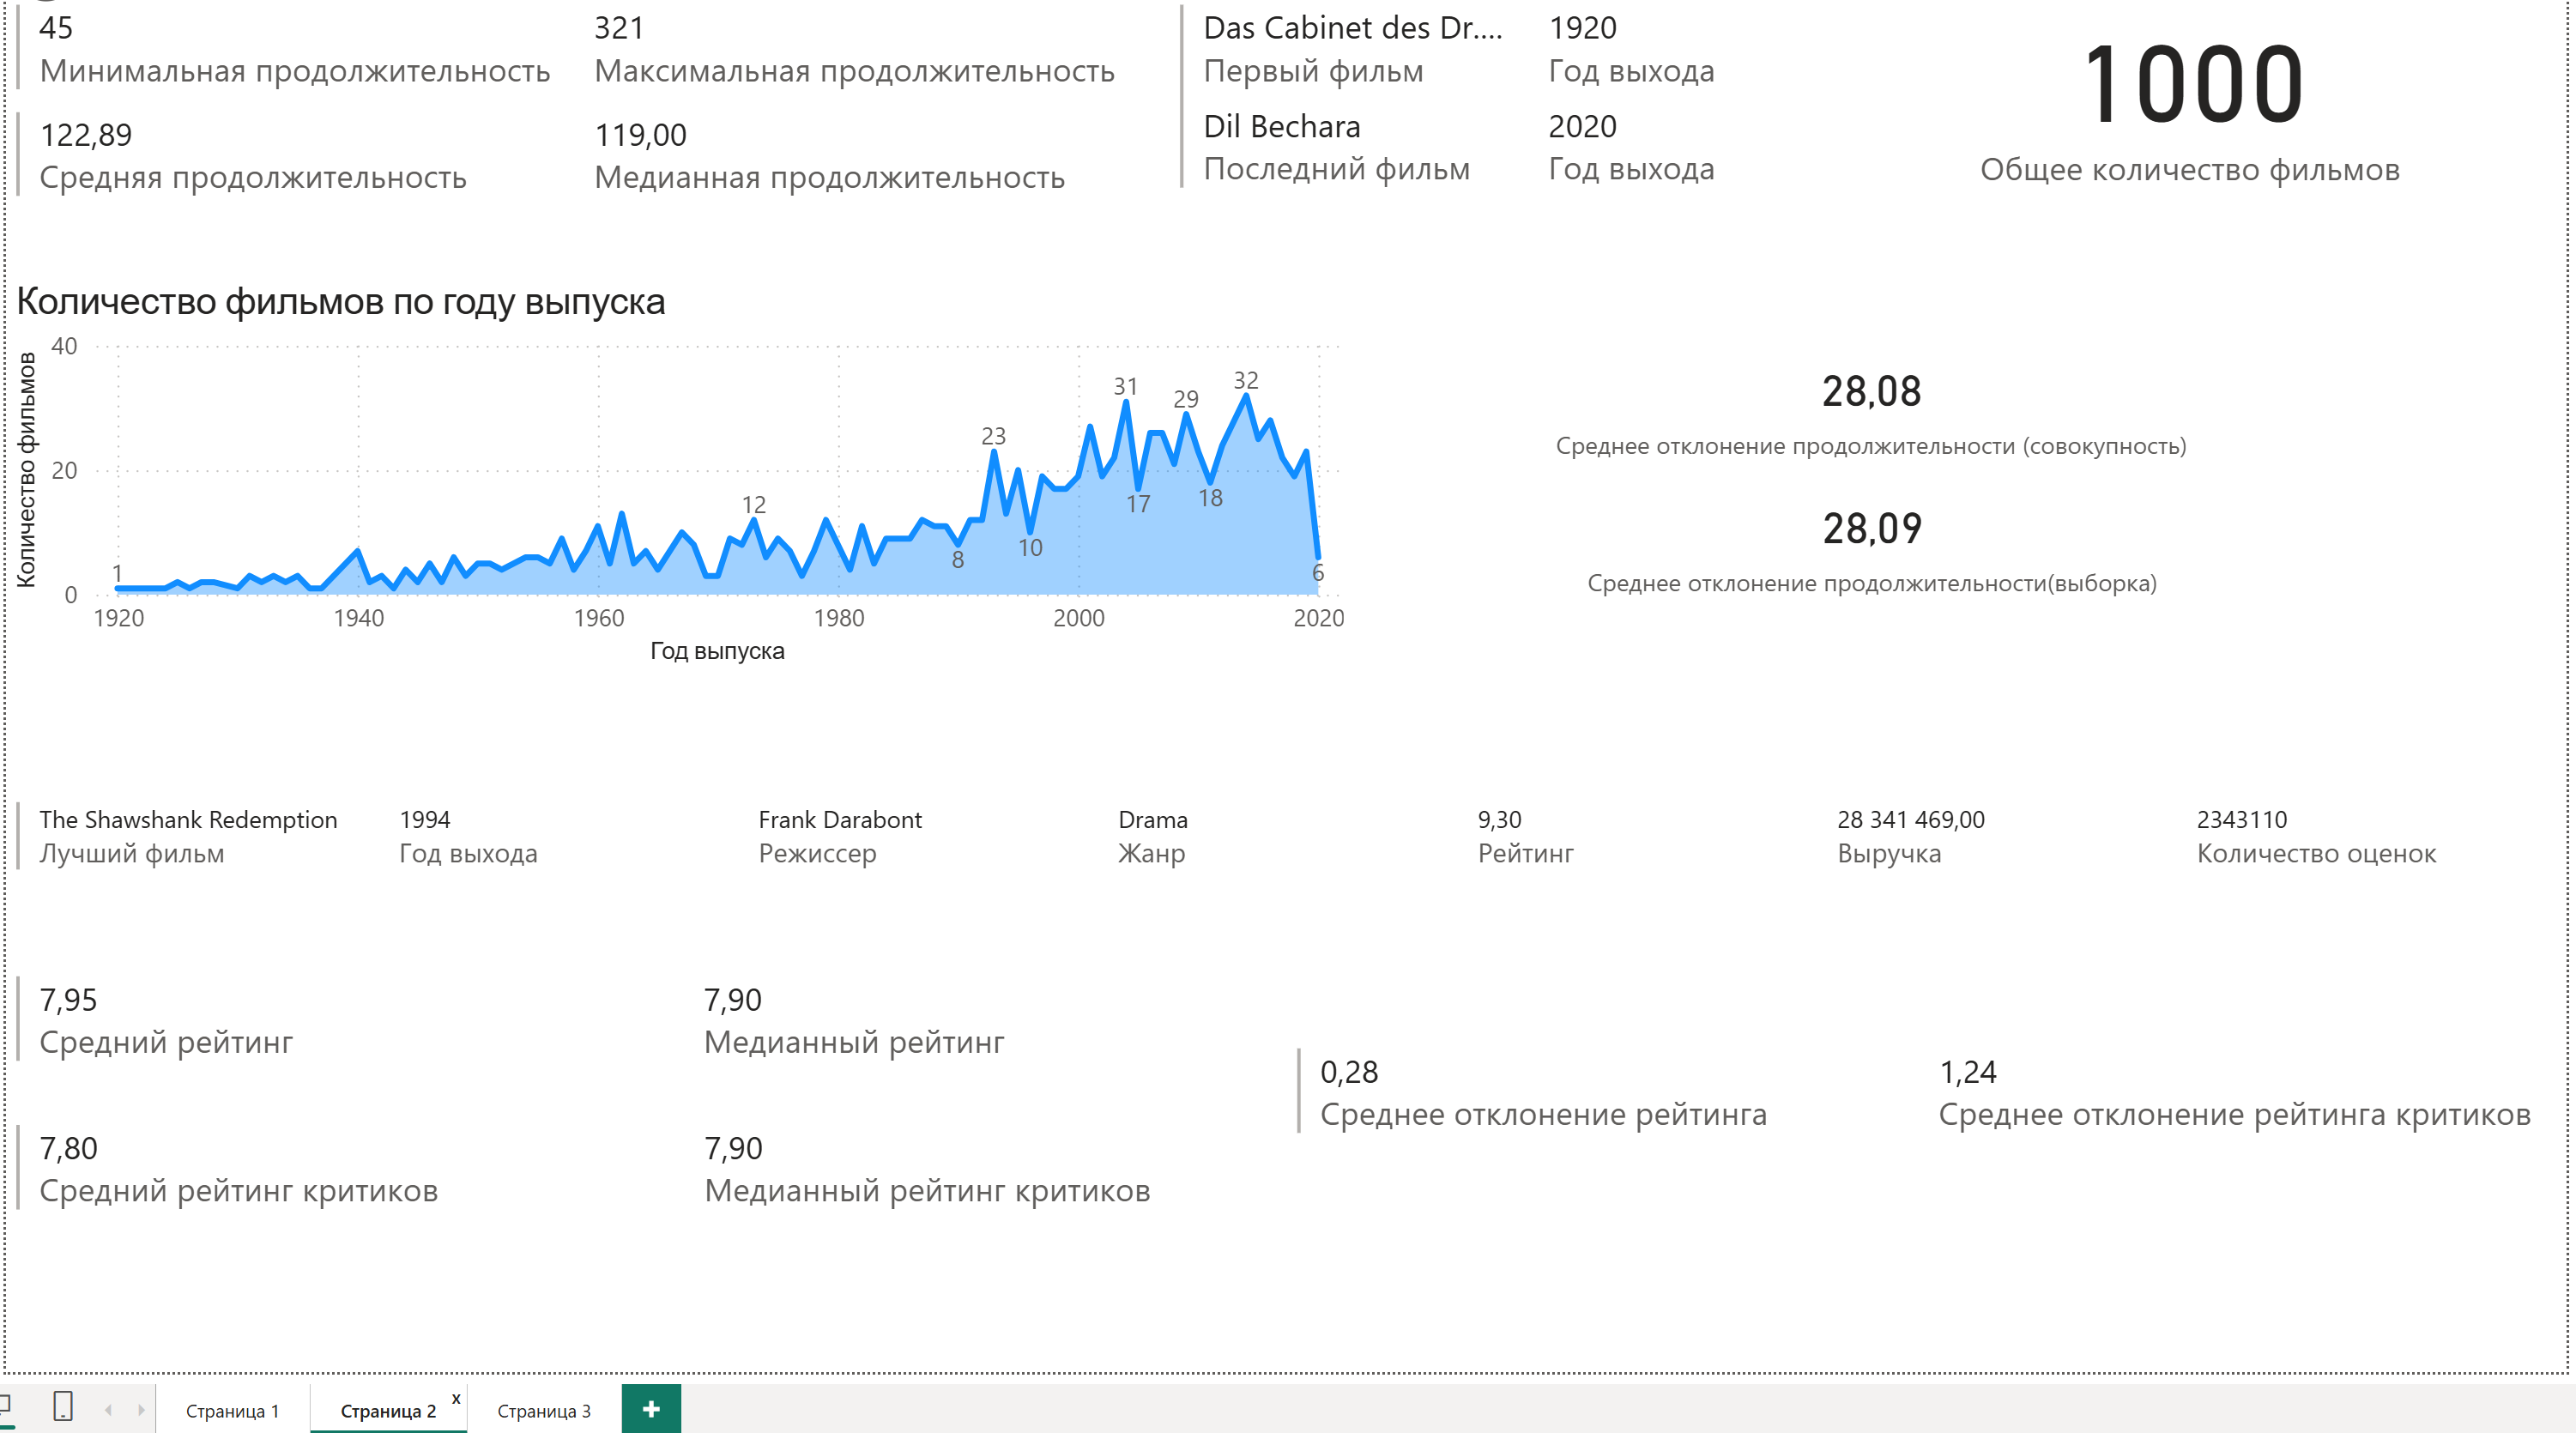

Layout of this report page (visuals, bound fields, positions):
{"tool":"powerbi","page":{"name":"Страница 2","canvas":[1280,720],"ordinal":1},"visuals":[{"type":"multiRowCard","fields":{"Values":["imdb_top_1000.Первый фильм","imdb_top_1000.Минимальный год","imdb_top_1000.Последний фильм","imdb_top_1000.Максимальный год"]},"box":[581.7,31.5,366.8,119.6],"z":0},{"type":"card","fields":{"Values":["imdb_top_1000.Общее количество фильмов"]},"box":[960.3,19.7,263.7,120.4],"z":1000},{"type":"lineChart","title":"Количество фильмов по году выпуска","fields":{"Category":["imdb_top_1000.Год выпуска"],"Y":["imdb_top_1000.Количество фильмов"]},"box":[0,174,673.8,196.8],"z":3000},{"type":"multiRowCard","fields":{"Values":["imdb_top_1000.Средняя продолжительность фильма","imdb_top_1000.Медианная продолжительность"]},"box":[0,85.2,576.1,54.6],"z":4000},{"type":"multiRowCard","fields":{"Values":["imdb_top_1000.Минимальная продолжительность","imdb_top_1000.Максимальная продолжительность"]},"box":[0,31.5,576.2,59],"z":5000},{"type":"multiRowCard","fields":{"Values":["imdb_top_1000.Средний рейтинг","imdb_top_1000.Медианный рейтинг"]},"box":[0,517.2,685.6,59.8],"z":6000},{"type":"multiRowCard","fields":{"Values":["imdb_top_1000.Средний рейтинг критиков","imdb_top_1000.Медианный рейтинг критиков"]},"box":[0,591.1,686.4,61.4],"z":7000},{"type":"multiRowCard","fields":{"Values":["imdb_top_1000.Среднее отклонение рейтинга","imdb_top_1000.Среднее отклонение рейтинга критиков"]},"box":[639.9,553.4,639.9,68.5],"z":8000},{"type":"multiRowCard","fields":{"Values":["imdb_top_1000.Лучший фильм","imdb_top_1000.Год лучшего фильма","imdb_top_1000.Режиссер лучшего фильма","imdb_top_1000.Жанр лучшего фильма","imdb_top_1000.Максимальный рейтинг","imdb_top_1000.Выручка лучшего фильма","imdb_top_1000.Количество оценок лучшего фильма"]},"box":[0,429.8,1279.9,50.4],"z":9000},{"type":"actionButton","box":[0,0,100,40],"z":10000},{"type":"card","fields":{"Values":["imdb_top_1000.Среднее отклонение продолжительности (совокупность)"]},"box":[752.8,200.9,359.1,71.5],"z":11000},{"type":"card","fields":{"Values":["imdb_top_1000.Среднее отклонение продолжительности(выборка)"]},"box":[735.2,272.4,396.1,66.7],"z":12000}]}

Visuals, with their boxes on the page's 1280x720 design canvas (x1, y1, x2, y2). These are canvas units, not pixel positions in the 2576x1433 screenshot, which may show the page scaled, cropped or inside an application window:
multiRowCard - imdb_top_1000.Первый фильм x imdb_top_1000.Минимальный год: [582, 32, 948, 151]
card - imdb_top_1000.Общее количество фильмов: [960, 20, 1224, 140]
"Количество фильмов по году выпуска" lineChart: [0, 174, 674, 371]
multiRowCard - imdb_top_1000.Средняя продолжительность фильма x imdb_top_1000.Медианная продолжительность: [0, 85, 576, 140]
multiRowCard - imdb_top_1000.Минимальная продолжительность x imdb_top_1000.Максимальная продолжительность: [0, 32, 576, 90]
multiRowCard - imdb_top_1000.Средний рейтинг x imdb_top_1000.Медианный рейтинг: [0, 517, 686, 577]
multiRowCard - imdb_top_1000.Средний рейтинг критиков x imdb_top_1000.Медианный рейтинг критиков: [0, 591, 686, 652]
multiRowCard - imdb_top_1000.Среднее отклонение рейтинга x imdb_top_1000.Среднее отклонение рейтинга критиков: [640, 553, 1280, 622]
multiRowCard - imdb_top_1000.Лучший фильм x imdb_top_1000.Год лучшего фильма: [0, 430, 1280, 480]
actionButton: [0, 0, 100, 40]
card - imdb_top_1000.Среднее отклонение продолжительности (совокупность): [753, 201, 1112, 272]
card - imdb_top_1000.Среднее отклонение продолжительности(выборка): [735, 272, 1131, 339]
